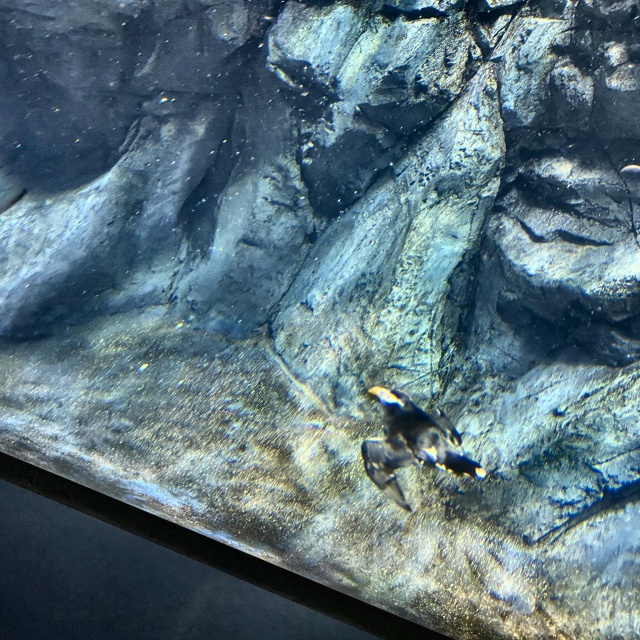puffin: (361, 385, 485, 512)
